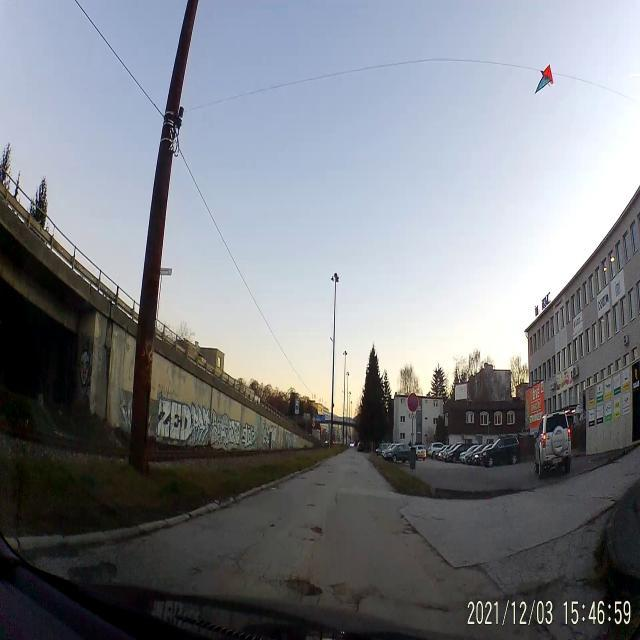Pothole: (58, 552, 122, 590), (328, 576, 376, 614), (282, 571, 324, 599), (396, 508, 419, 542), (308, 521, 326, 543), (266, 522, 282, 530), (313, 482, 327, 488), (323, 470, 335, 477), (304, 502, 316, 508), (299, 476, 307, 479)
